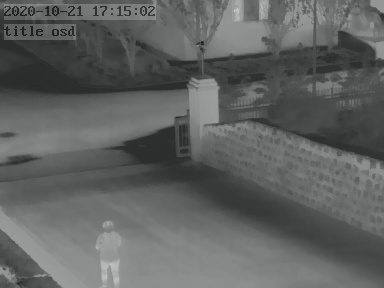person: (94, 220, 120, 288)
